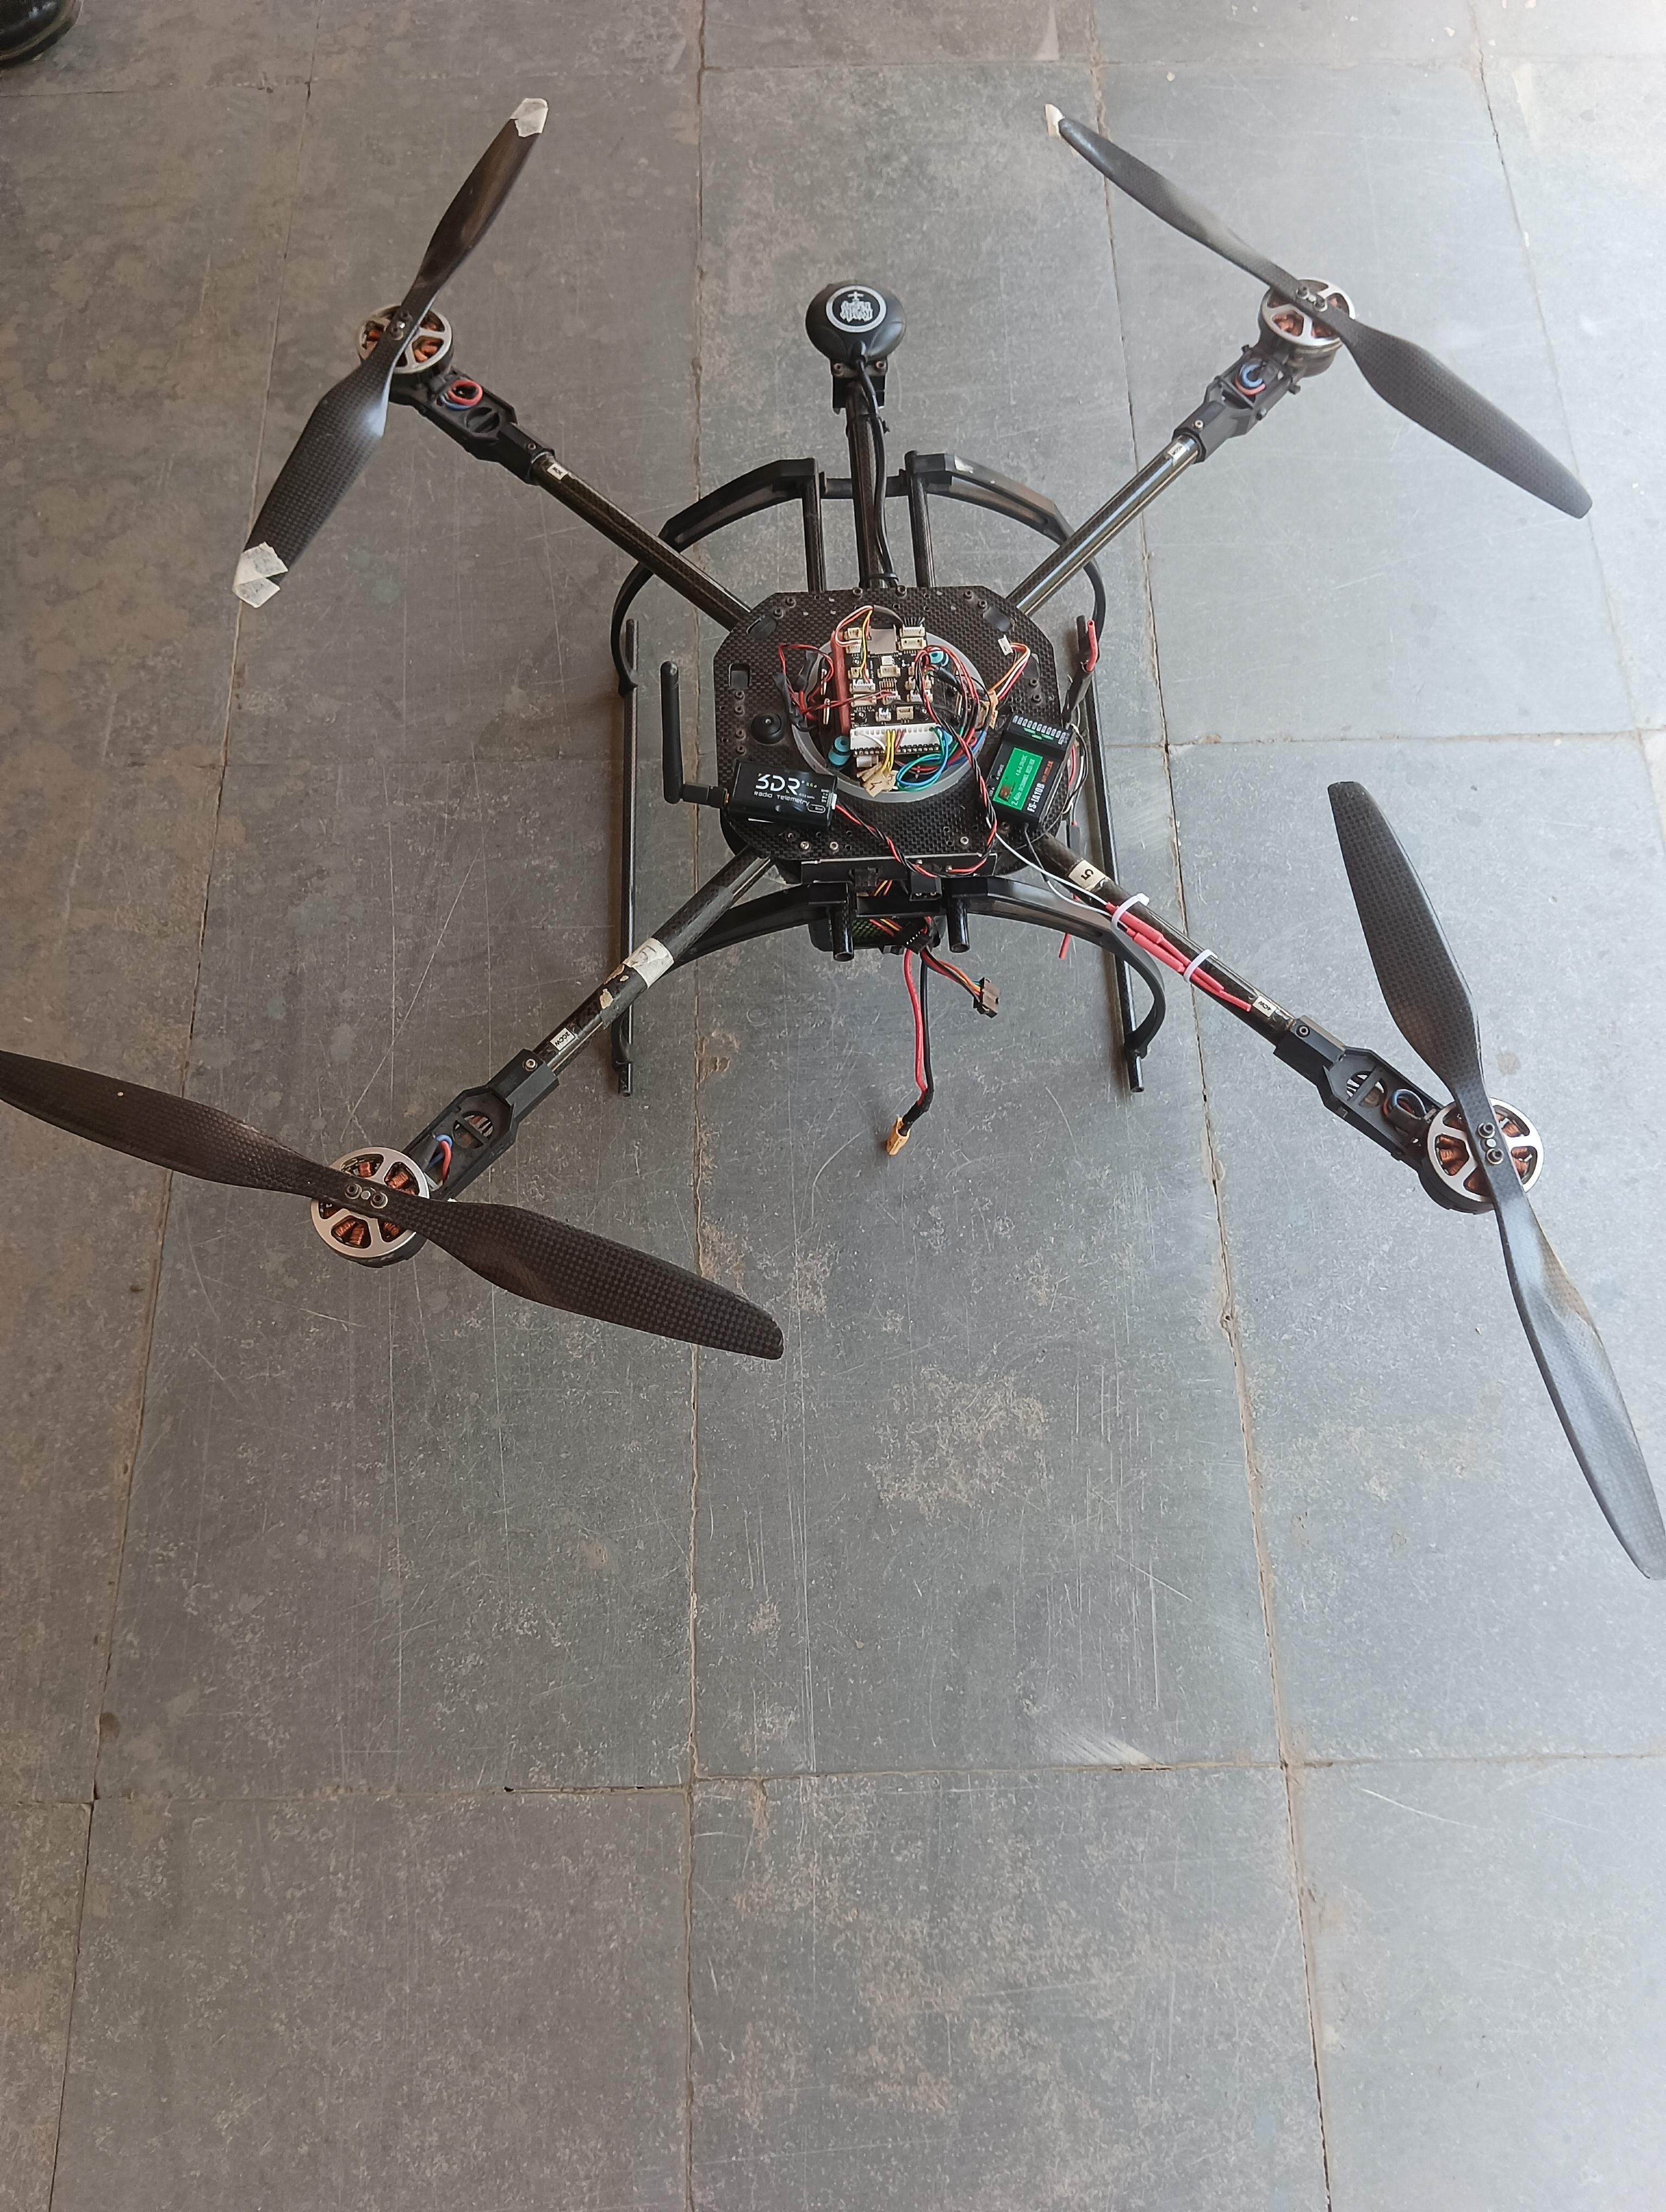drone: (2, 28, 1666, 1642)
